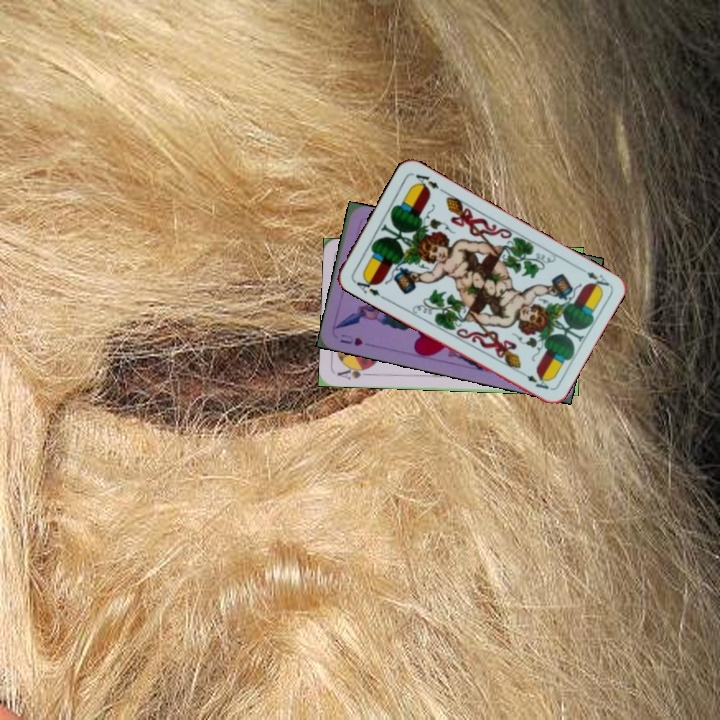EA: (350, 272, 387, 302), (574, 263, 612, 292)
HU: (336, 330, 366, 348)
SA: (333, 363, 374, 382)
